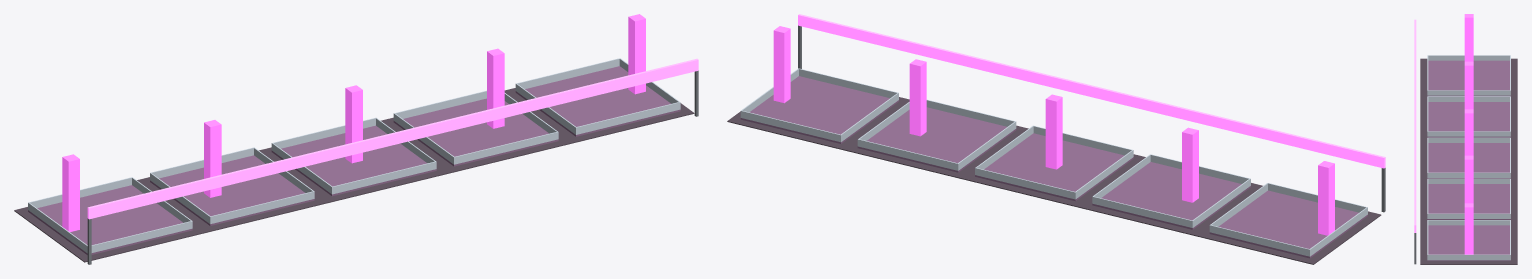
File: pack-empathy-emotional-intelligence.glb
3 renders of one model, left to right at view 1: azimuth 30°, elevation 25°; view 2: azimuth 150°, elevation 25°; view 3: azimuth 270°, elevation 25°, orthographic. The views are drawn at different scales.
Visible parts, largest first — view 1: Empathy & Emotional Intelligence; view 2: Empathy & Emotional Intelligence; view 3: Empathy & Emotional Intelligence.
Part boxes in pixels (x1,y1,x2,y2): Empathy & Emotional Intelligence: (14, 14, 698, 264); Empathy & Emotional Intelligence: (727, 14, 1385, 264); Empathy & Emotional Intelligence: (1414, 14, 1517, 264).
Bounding box in the file's own units: 70 × 8.3 × 14.9.
